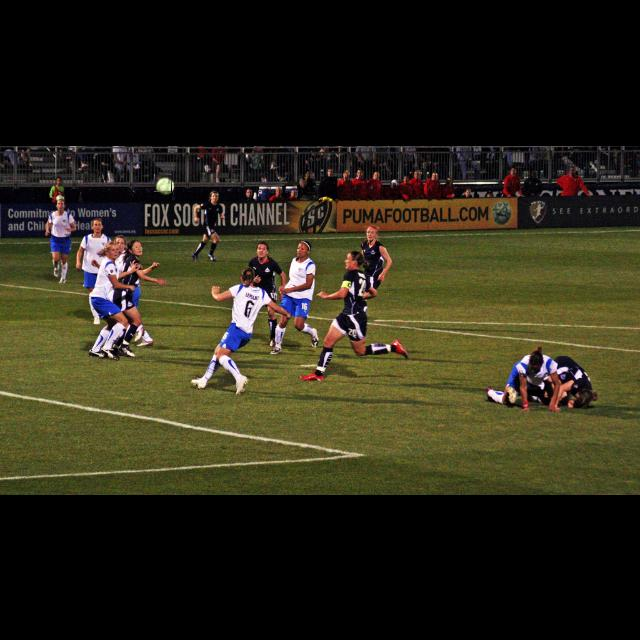Football: (154, 174, 172, 192)
